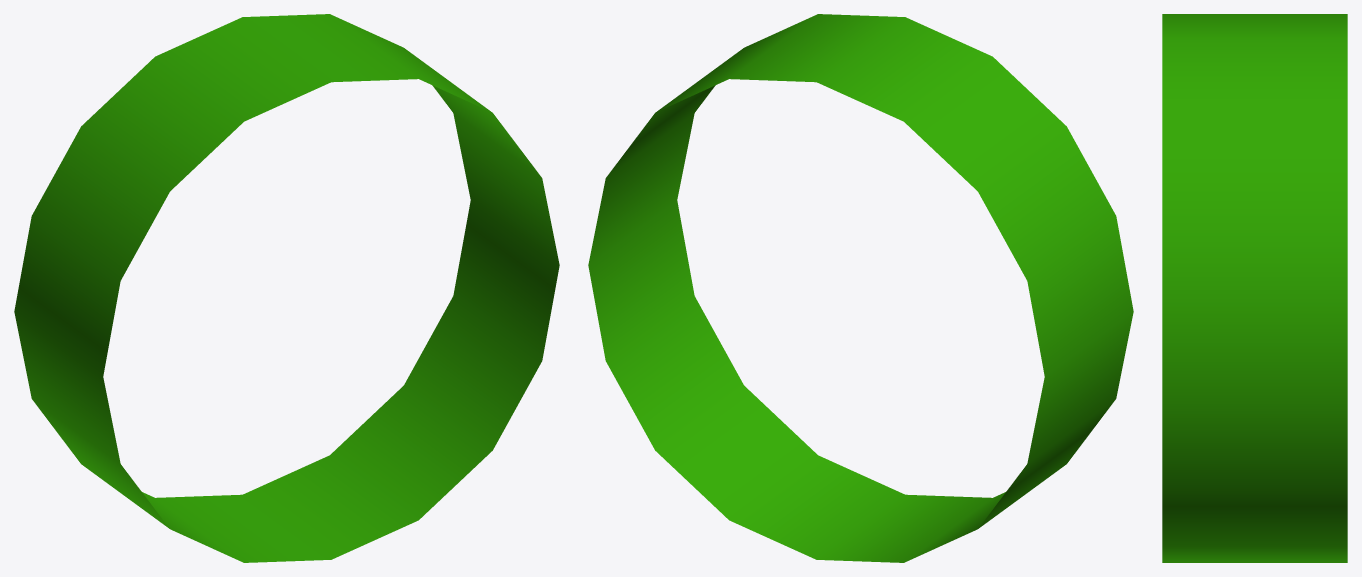
Rendered from truclr_ParticleMesh_BossLaserBarrelBuildUp.fbx.
The picture shows the model from 3 angles, left to right: view 1: azimuth 30°, elevation 25°; view 2: azimuth 150°, elevation 25°; view 3: azimuth 270°, elevation 25°; orthographic projection. The views are drawn at different scales.
Parts seen in each view (by area): view 1: bosslaserbarrelmesh; view 2: bosslaserbarrelmesh; view 3: bosslaserbarrelmesh.
Part boxes in pixels (x1,y1,x2,y2): bosslaserbarrelmesh: [14, 14, 559, 562]; bosslaserbarrelmesh: [588, 14, 1133, 562]; bosslaserbarrelmesh: [1162, 14, 1347, 562].
Bounding box in the file's own units: 0.00417 × 0.00417 × 0.00141.
